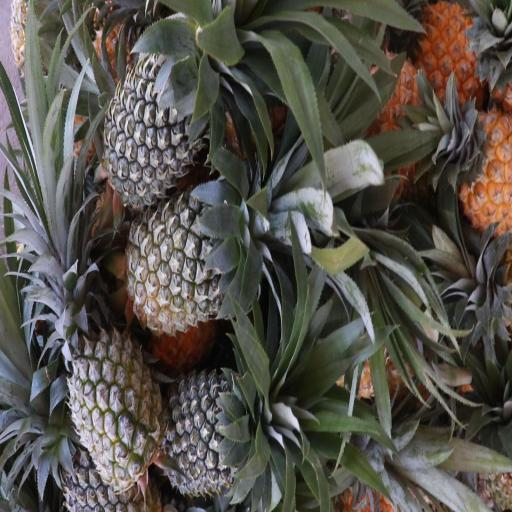------------------------------: (132, 193, 254, 325), (69, 330, 158, 482)
Pineapple - v8 v1: (444, 111, 512, 237), (422, 0, 497, 101)
